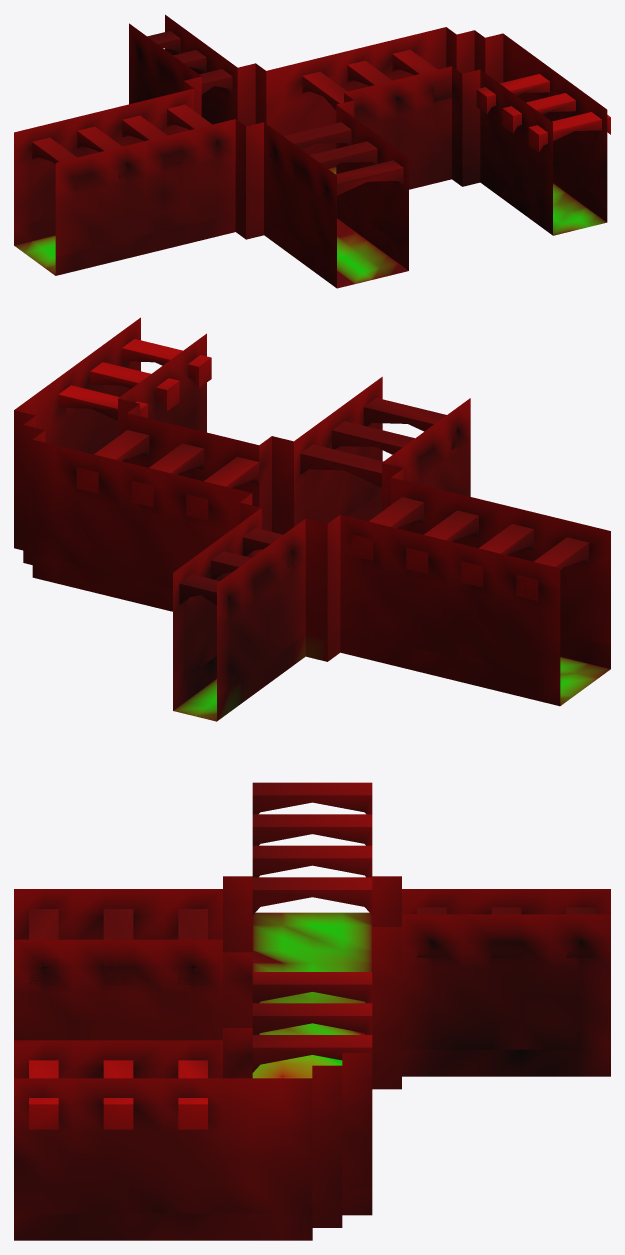
The model's file is castle_trench_1.obj.
3 views of the same model, one above another, from view 1: azimuth 30°, elevation 25°; view 2: azimuth 150°, elevation 25°; view 3: azimuth 270°, elevation 25° (orthographic). The views are drawn at different scales.
Parts seen in each view (by area): view 1: Upper_Wall.001, Rafters.001, Lower_Wall.001, Floor; view 2: Upper_Wall.001, Rafters.001, Lower_Wall.001, Floor; view 3: Upper_Wall.001, Rafters.001, Lower_Wall.001, Floor.
Part boxes in pixels (<box>): Upper_Wall.001: <box>14,14,607,269</box>; Rafters.001: <box>32,31,610,200</box>; Lower_Wall.001: <box>14,148,607,288</box>; Floor: <box>14,167,606,288</box>; Upper_Wall.001: <box>14,317,610,698</box>; Rafters.001: <box>58,339,588,606</box>; Lower_Wall.001: <box>14,492,610,721</box>; Floor: <box>173,657,610,721</box>; Upper_Wall.001: <box>14,876,610,1213</box>; Rafters.001: <box>29,782,595,1129</box>; Lower_Wall.001: <box>14,1049,610,1240</box>; Floor: <box>252,912,372,1078</box>.
Bounding box in the file's own units: 26.5 × 6 × 20.
